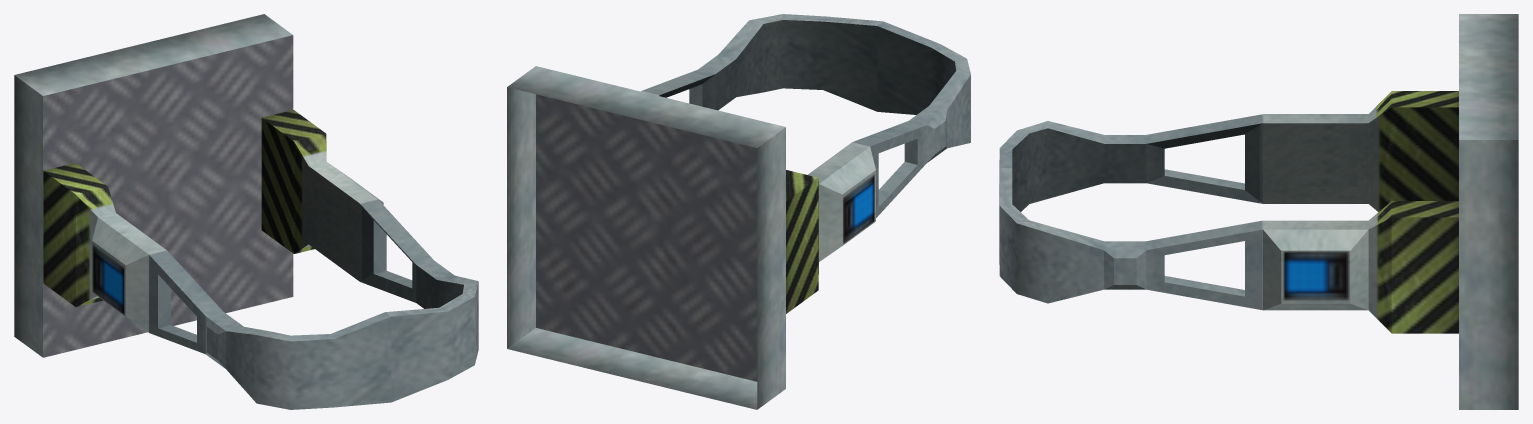
File: ss_tile_door_ew.fbx
3 renders of one model, left to right at view 1: azimuth 30°, elevation 25°; view 2: azimuth 150°, elevation 25°; view 3: azimuth 270°, elevation 25°, orthographic. The views are drawn at different scales.
Bounding box in the file's own units: 1.03 × 1 × 1.74.
